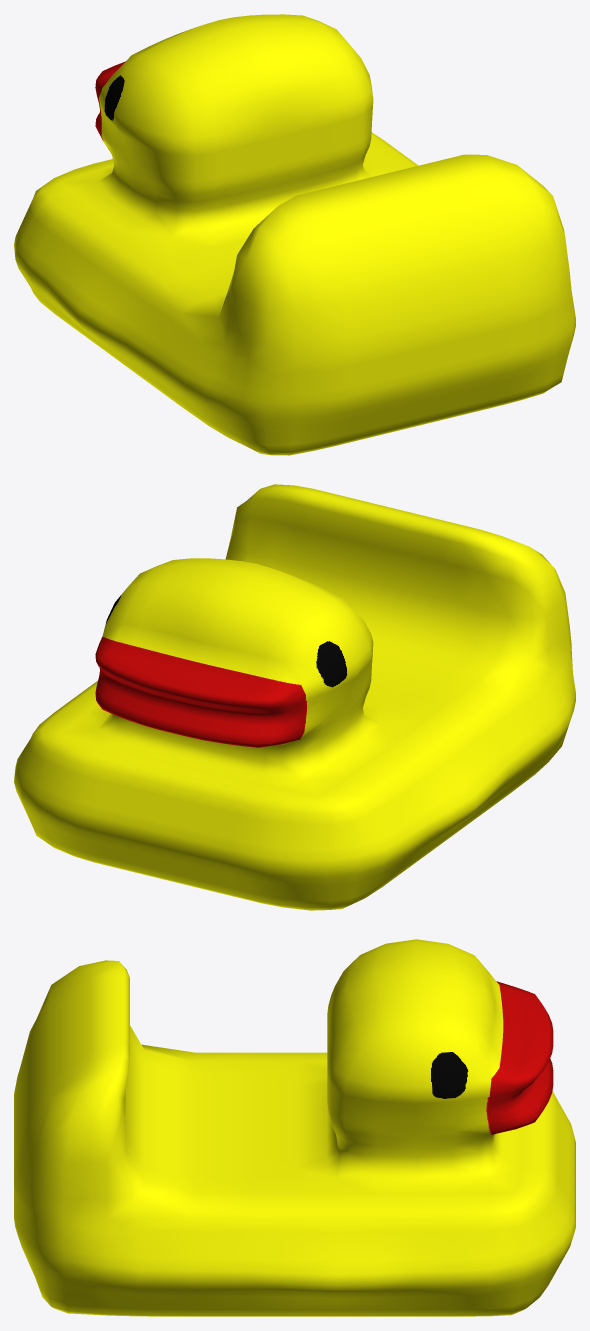
File: duck.obj
3 renders of one model, top to bottom at view 1: azimuth 30°, elevation 25°; view 2: azimuth 150°, elevation 25°; view 3: azimuth 270°, elevation 25°, orthographic. The views are drawn at different scales.
Visible parts, largest first — view 1: 立方体; view 2: 立方体; view 3: 立方体.
Boxes of the visible parts, x1,y1,x2,y2 form: 立方体: (14, 14, 575, 455); 立方体: (14, 484, 575, 910); 立方体: (14, 939, 575, 1316).
Size of the model in its own units: 3.77 by 2.42 by 4.45.
